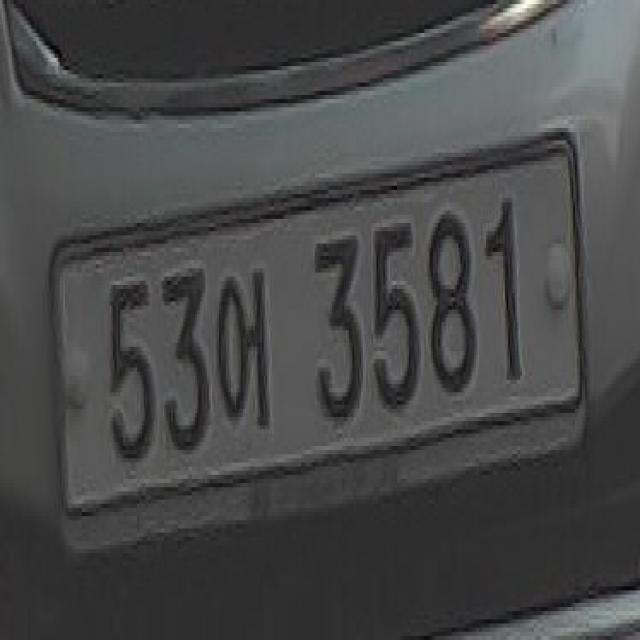1: (478, 186, 526, 402)
3: (310, 222, 366, 438), (160, 261, 214, 462)
5: (104, 266, 158, 474), (368, 212, 421, 422)
8: (425, 200, 478, 407)
eo: (218, 258, 276, 454)
license_plate: (33, 93, 605, 586)
